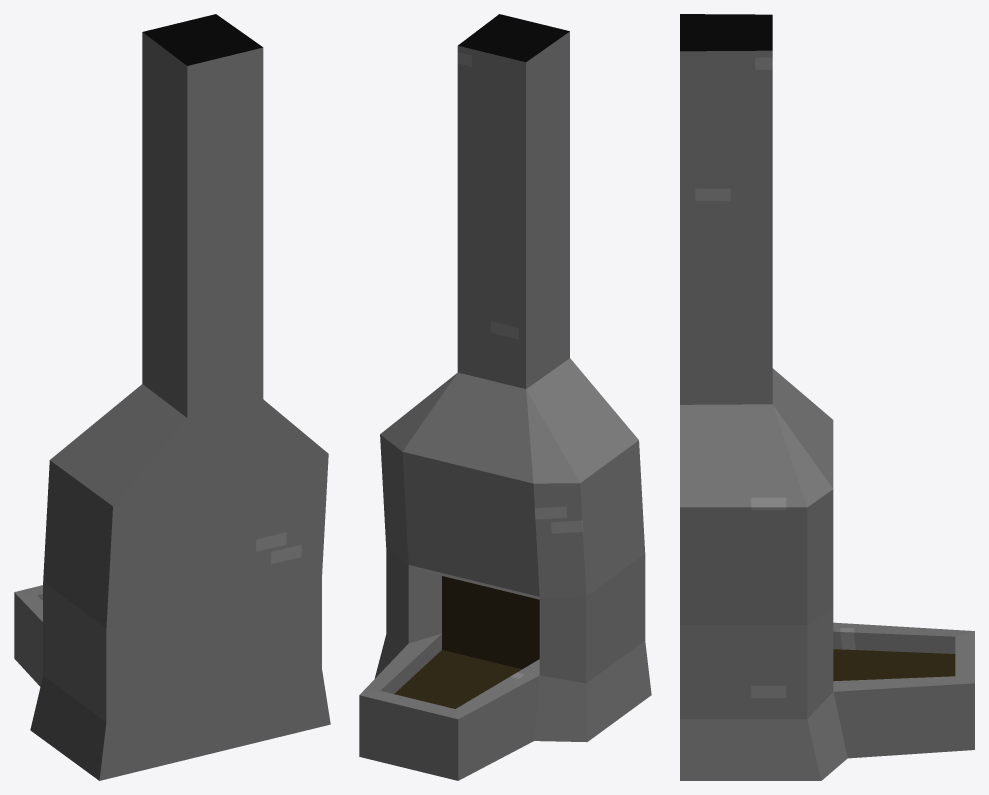
The model's file is forge.obj.
3 views of the same model, side by side, from view 1: azimuth 30°, elevation 25°; view 2: azimuth 150°, elevation 25°; view 3: azimuth 270°, elevation 25° (orthographic). The views are drawn at different scales.
Visible parts, largest first — view 1: forge_Mesh1_Model; view 2: forge_Mesh1_Model; view 3: forge_Mesh1_Model.
Part boxes in pixels (x1,y1,x2,y2): forge_Mesh1_Model: (14,14,330,780); forge_Mesh1_Model: (359,14,651,780); forge_Mesh1_Model: (680,14,974,780).
Bounding box in the file's own units: 1.39 × 3.99 × 1.53.
